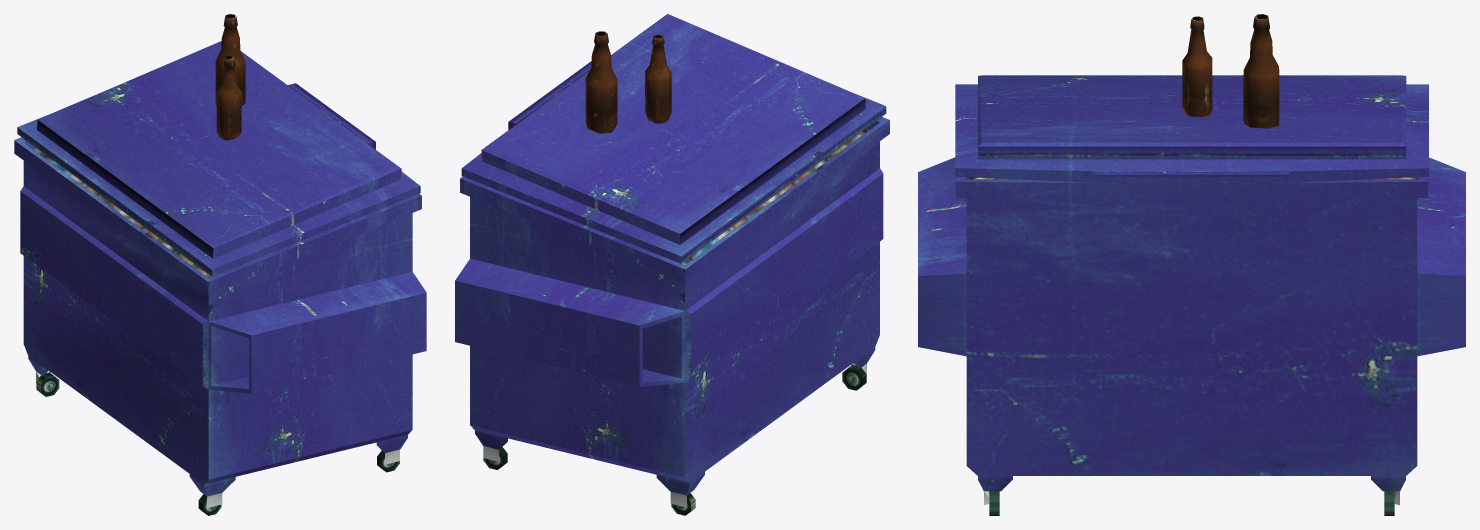
Rendered from Garbage02.fbx.
The picture shows the model from 3 angles, left to right: view 1: azimuth 30°, elevation 25°; view 2: azimuth 150°, elevation 25°; view 3: azimuth 270°, elevation 25°; orthographic projection. The views are drawn at different scales.
Parts seen in each view (by area): view 1: Empty_Mesh; view 2: Empty_Mesh; view 3: Empty_Mesh.
Part boxes in pixels (left/top/right/bottom): Empty_Mesh: left=14, top=14, right=426, bottom=515; Empty_Mesh: left=455, top=14, right=889, bottom=515; Empty_Mesh: left=918, top=14, right=1465, bottom=515.
Bounding box in the file's own units: 78.89 × 129 × 137.
